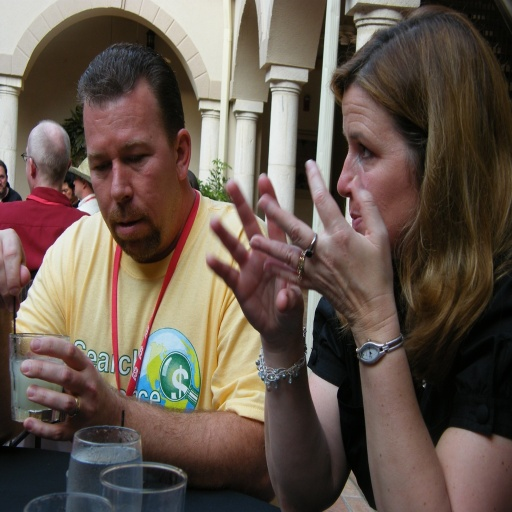hand: (204, 170, 304, 346), (21, 336, 124, 448), (0, 226, 31, 302)
